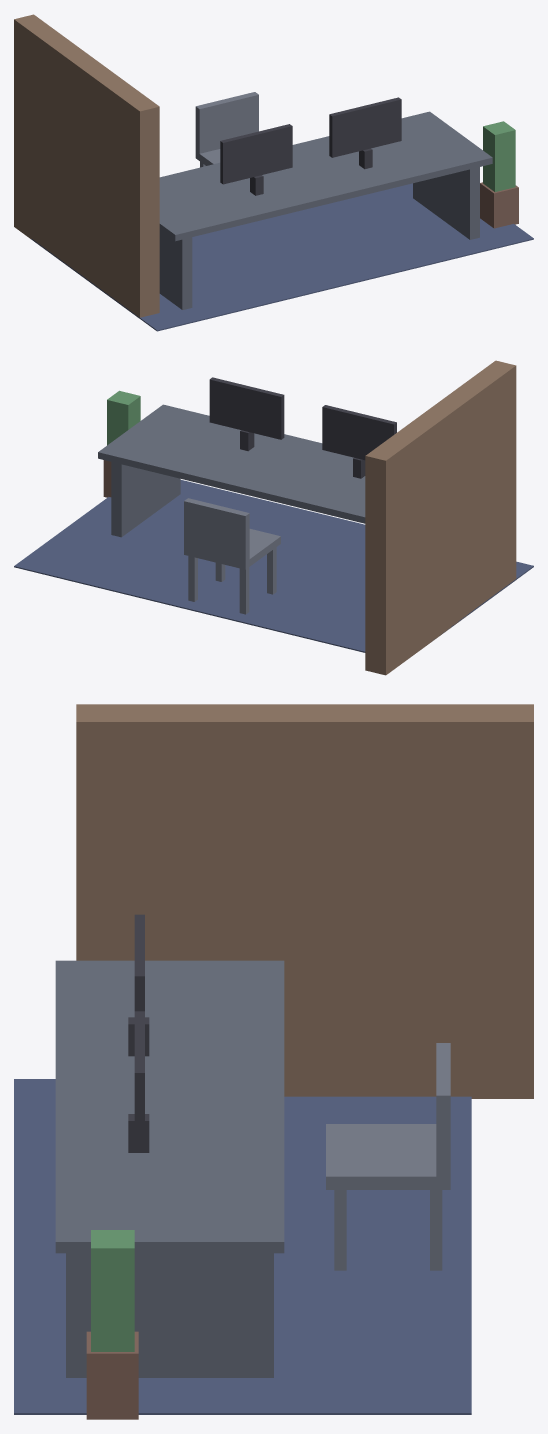
Rendered from home-office-furniture.glb.
3 renders of one model, top to bottom at view 1: azimuth 30°, elevation 25°; view 2: azimuth 150°, elevation 25°; view 3: azimuth 270°, elevation 25°, orthographic. The views are drawn at different scales.
Visible parts, largest first — view 1: Shelf_Frame, Rug, Desk_Top, Monitor_Body_0.55, Monitor_Body_-0.55, Desk_Leg_1.45, Chair_Back, Desk_Leg_-1.45, Plant_Leaf, Plant_Pot; view 2: Shelf_Frame, Rug, Desk_Top, Monitor_Body_0.55, Desk_Leg_1.45, Chair_Back, Monitor_Body_-0.55, Plant_Leaf, Chair_Seat, Chair_Leg_-0.25_0.18, Chair_Leg_0.25_0.18, Chair_Leg_-0.25_-0.28; view 3: Shelf_Frame, Rug, Desk_Top, Desk_Leg_1.45, Chair_Seat, Plant_Leaf, Plant_Pot, Chair_Back, Monitor_Body_0.55, Monitor_Body_-0.55, Chair_Leg_0.25_0.18, Chair_Leg_0.25_-0.28.
Boxes of the visible parts, x1=… form: Shelf_Frame: x1=14, y1=14, x2=159, y2=317; Rug: x1=31, y1=183, x2=533, y2=331; Desk_Top: x1=159, y1=111, x2=492, y2=241; Monitor_Body_0.55: x1=329, y1=97, x2=401, y2=157; Monitor_Body_-0.55: x1=220, y1=124, x2=292, y2=184; Desk_Leg_1.45: x1=413, y1=167, x2=479, y2=239; Chair_Back: x1=195, y1=92, x2=258, y2=153; Desk_Leg_-1.45: x1=159, y1=230, x2=192, y2=309; Plant_Leaf: x1=483, y1=121, x2=515, y2=191; Plant_Pot: x1=480, y1=182, x2=518, y2=228; Shelf_Frame: x1=365, y1=360, x2=516, y2=675; Rug: x1=14, y1=480, x2=533, y2=652; Desk_Top: x1=98, y1=404, x2=365, y2=523; Monitor_Body_0.55: x1=209, y1=377, x2=284, y2=439; Desk_Leg_1.45: x1=111, y1=462, x2=180, y2=537; Chair_Back: x1=184, y1=498, x2=249, y2=562; Monitor_Body_-0.55: x1=322, y1=405, x2=396, y2=460; Plant_Leaf: x1=107, y1=390, x2=140, y2=445; Chair_Seat: x1=184, y1=529, x2=280, y2=569; Chair_Leg_-0.25_0.18: x1=239, y1=567, x2=249, y2=614; Chair_Leg_0.25_0.18: x1=188, y1=556, x2=197, y2=601; Chair_Leg_-0.25_-0.28: x1=267, y1=547, x2=276, y2=594; Shelf_Frame: x1=76, y1=704, x2=533, y2=1098; Rug: x1=14, y1=1079, x2=471, y2=1414; Desk_Top: x1=55, y1=960, x2=284, y2=1253; Desk_Leg_1.45: x1=66, y1=1253, x2=273, y2=1377; Chair_Seat: x1=326, y1=1124, x2=450, y2=1189; Plant_Leaf: x1=91, y1=1230, x2=134, y2=1351; Plant_Pot: x1=86, y1=1331, x2=138, y2=1419; Chair_Back: x1=436, y1=1043, x2=450, y2=1176; Monitor_Body_0.55: x1=134, y1=1011, x2=144, y2=1148; Monitor_Body_-0.55: x1=134, y1=914, x2=144, y2=1011; Chair_Leg_0.25_0.18: x1=430, y1=1190, x2=442, y2=1270; Chair_Leg_0.25_-0.28: x1=334, y1=1190, x2=346, y2=1270.
Size of the model in its own units: 3.85 by 2 by 2.5.
